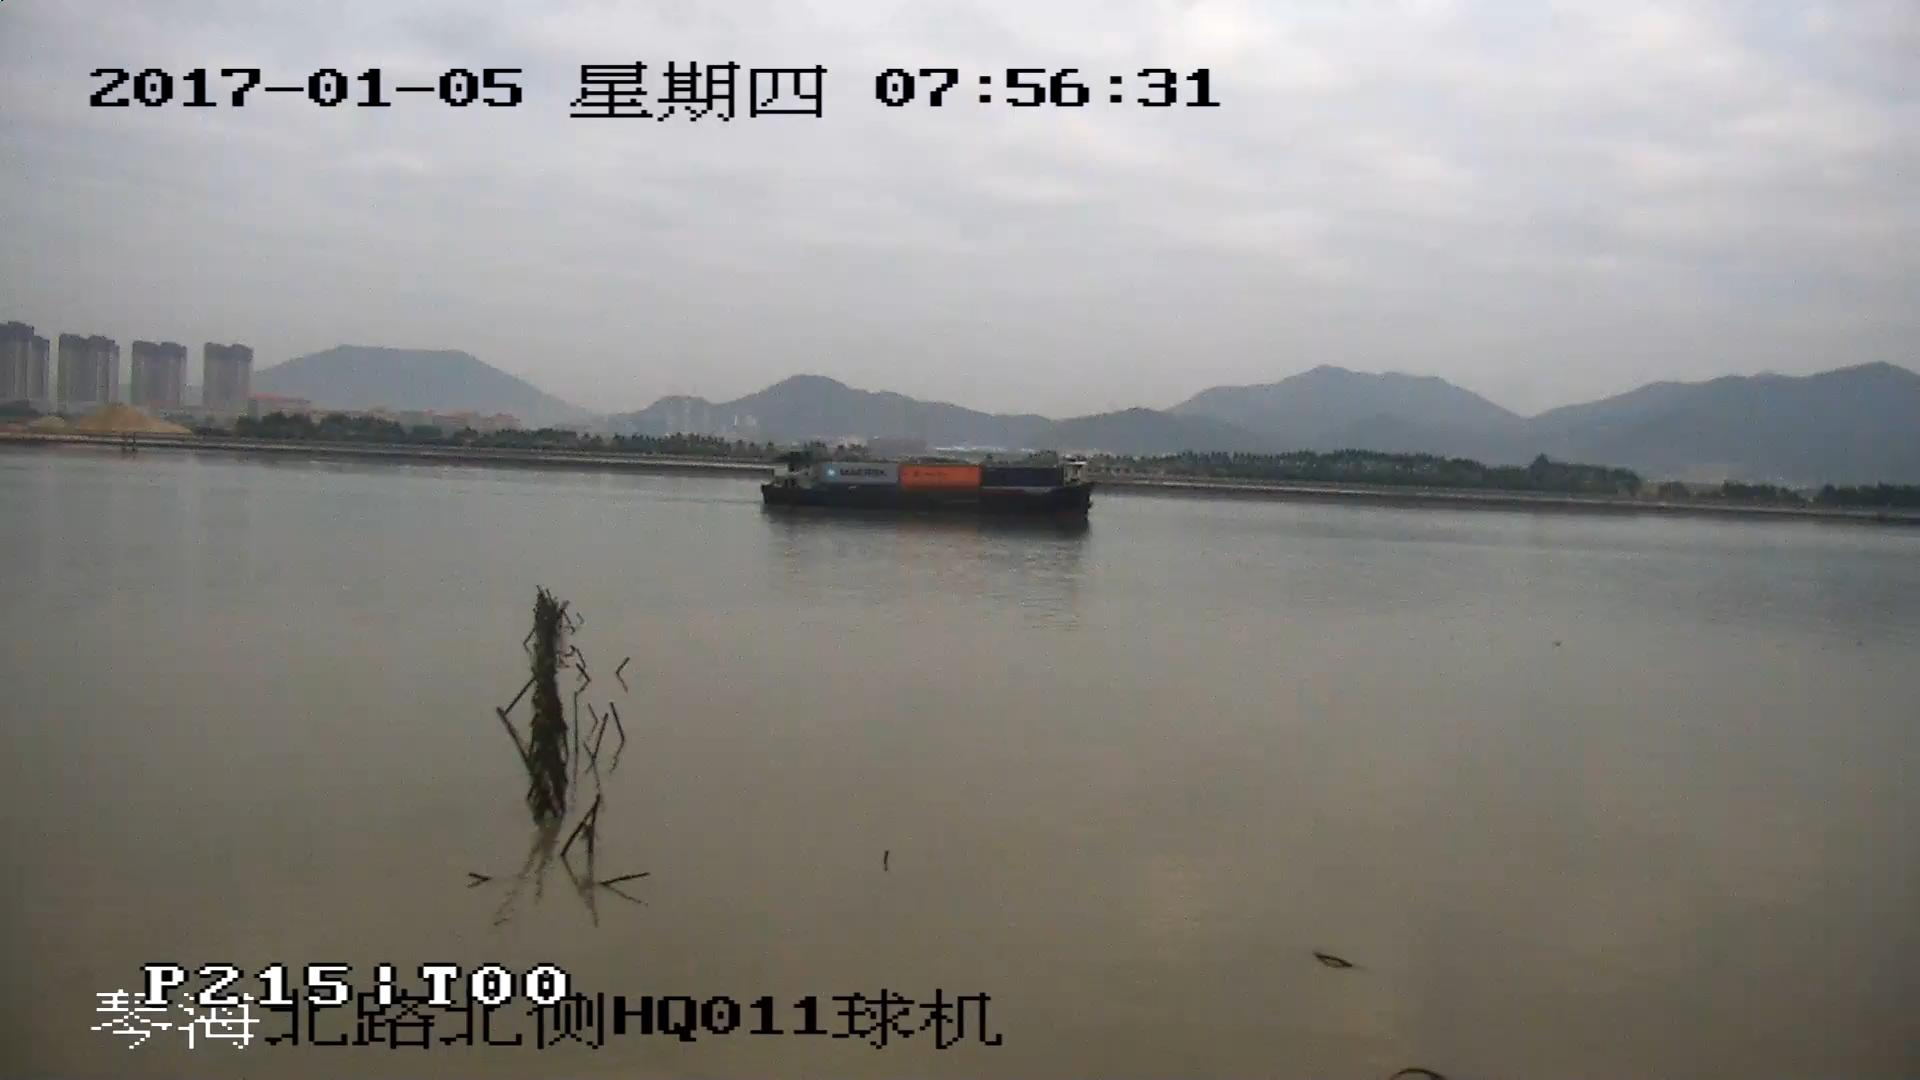container ship: (759, 457, 1091, 523)
